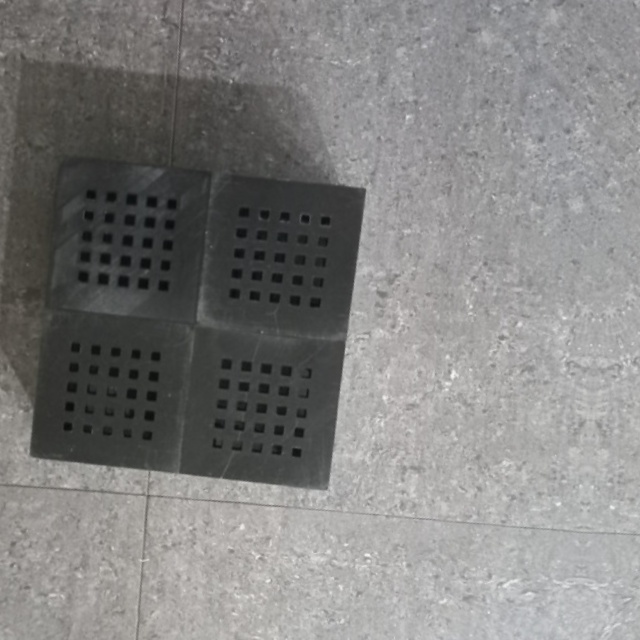pallet: (12, 142, 372, 500)
